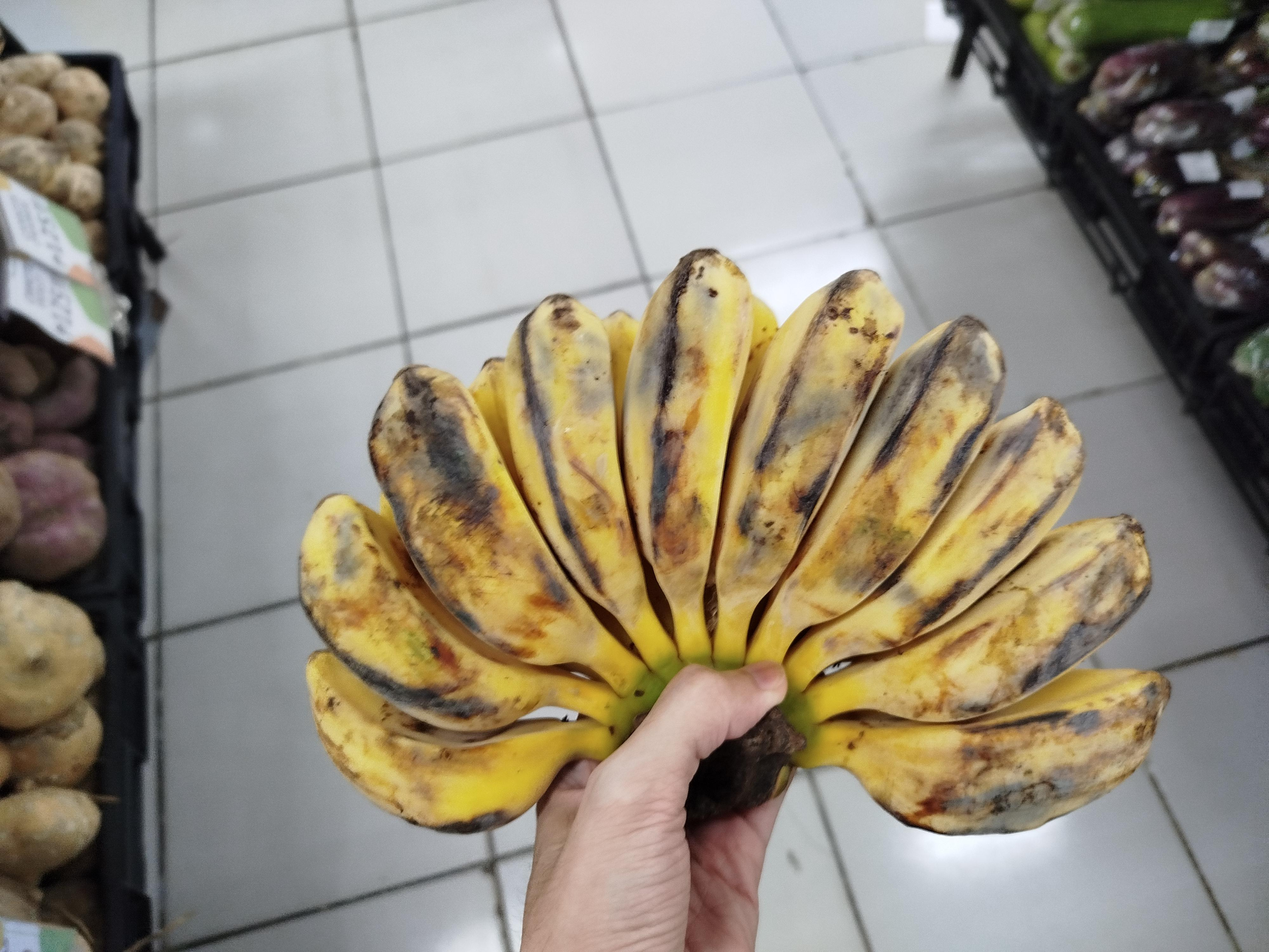ripe: (300, 248, 1170, 834)
